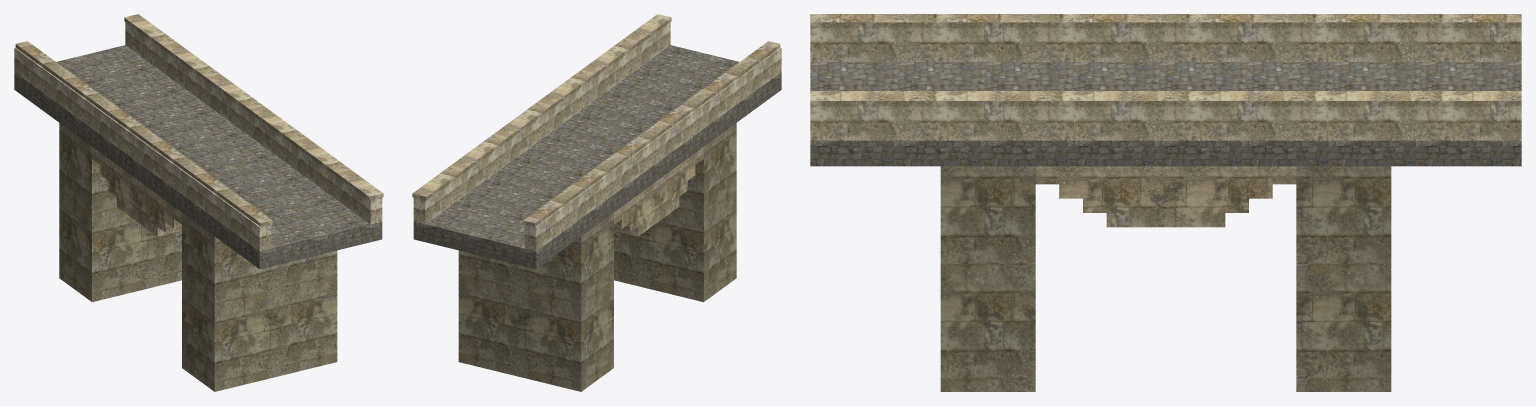
Rendered from bw-bridge.bw-v1.lod0.glb.
3 views of the same model, side by side, from view 1: azimuth 30°, elevation 25°; view 2: azimuth 150°, elevation 25°; view 3: azimuth 270°, elevation 25° (orthographic). The views are drawn at different scales.
Visible parts, largest first — view 1: bw-bridge; view 2: bw-bridge; view 3: bw-bridge.
Boxes of the visible parts, left/top/right/bottom form: bw-bridge: left=14, top=14, right=383, bottom=391; bw-bridge: left=412, top=14, right=781, bottom=391; bw-bridge: left=810, top=14, right=1521, bottom=391.
Bounding box in the file's own units: 5.25 × 8.15 × 18.
2 materials, 2 textured.
